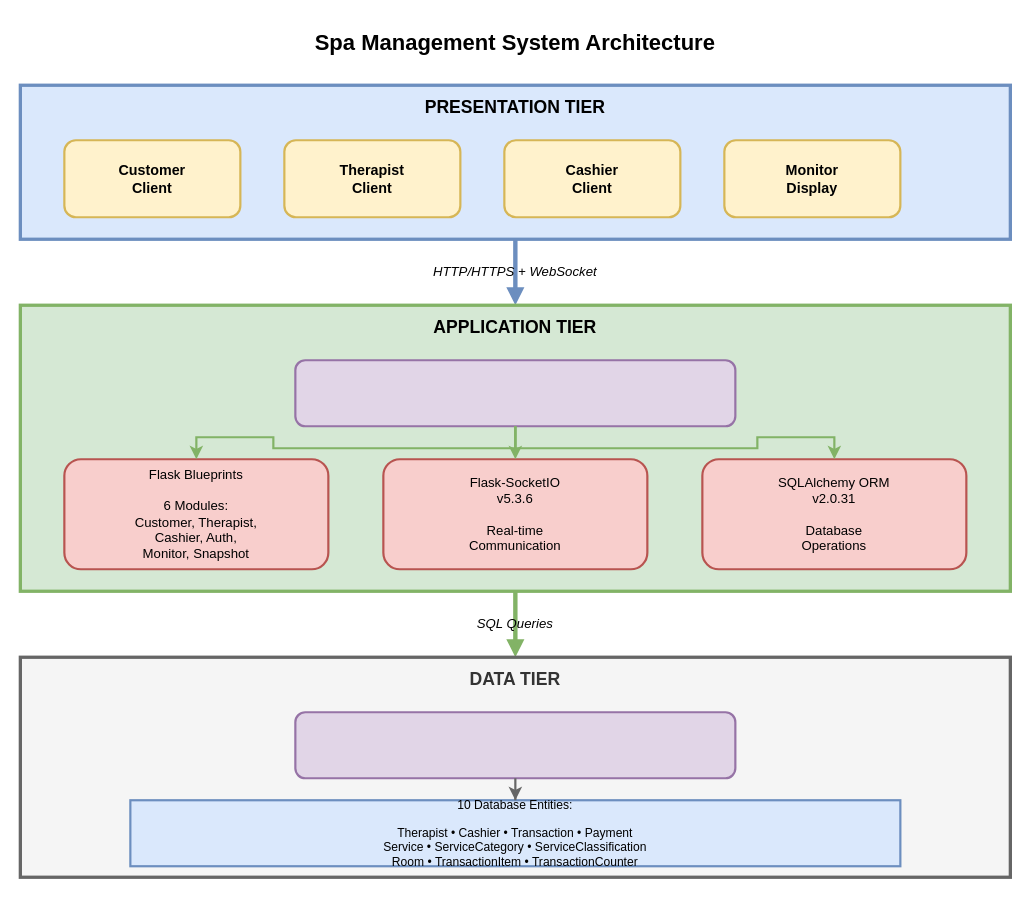
This 1031x898 diagram has some shape labels left out. The shapes that lost their labels are listed below. From the top down, each one's box as (x1, y1, x2, y2) in pixels, then its label:
(294, 359, 736, 427): Flask Web Server (Python 3.x) localhost:5000
(294, 711, 736, 779): MySQL Database Server (XAMPP) localhost:3306
